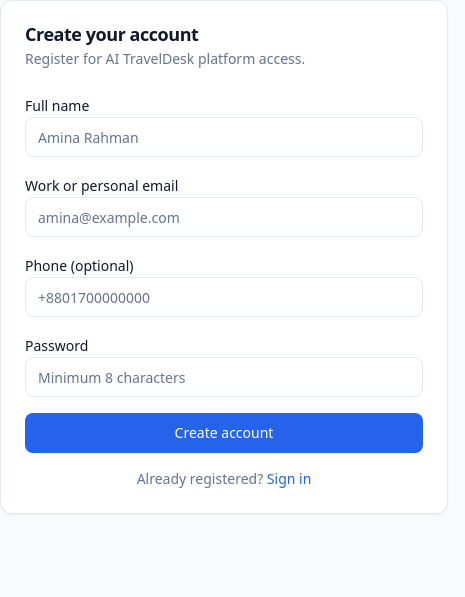
Scenario: Phase 1 Frontend Auth & Route Protection › validates registration fields on RegisterForm
Click the button "Create account": (224, 433) [25, 413, 423, 453]
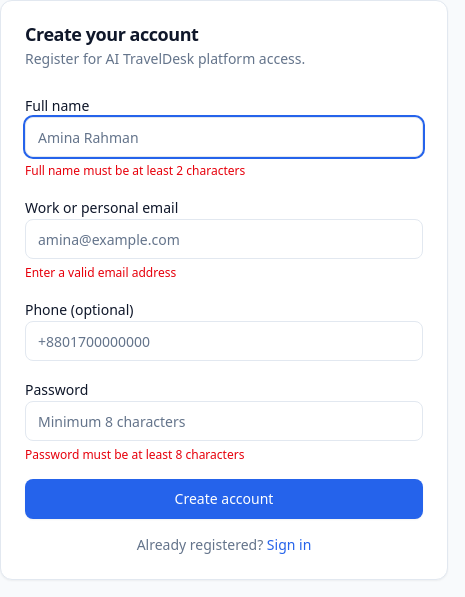
Check: the text "Full name must be at least 2 characters" is shown, box [25, 162, 245, 179]
Check: the text "Enter a valid email address" is shown, box [25, 264, 176, 281]
Check: the text "Password must be at least 8 characters" is shown, box [25, 446, 244, 463]
